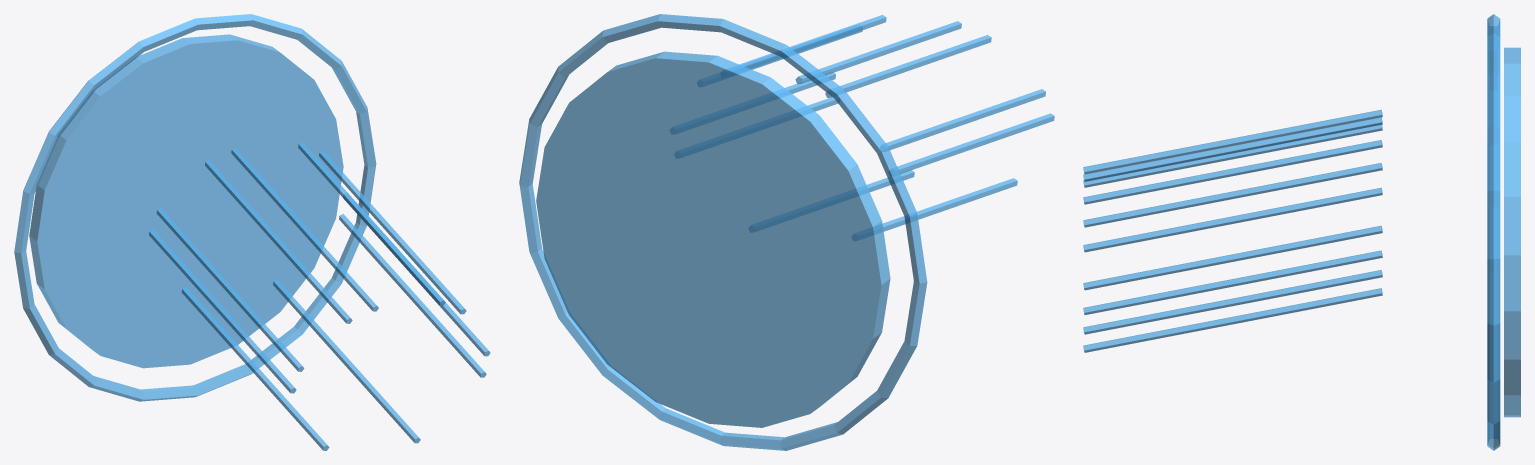
File: 01_rain_column_proxy.glb
The picture shows the model from 3 angles, left to right: view 1: azimuth 30°, elevation 25°; view 2: azimuth 150°, elevation 25°; view 3: azimuth 270°, elevation 25°; orthographic projection. The views are drawn at different scales.
Parts seen in each view (by area): view 1: base_disc, base_ring, rain_drop_7, rain_drop_5, rain_drop_1, rain_drop_2, rain_drop_4, rain_drop_6, rain_drop_8, rain_drop_3, rain_drop_9, rain_drop_0; view 2: base_disc, base_ring, rain_drop_9, rain_drop_8, rain_drop_3, rain_drop_2, rain_drop_4, rain_drop_1, rain_drop_5, rain_drop_6, rain_drop_0, rain_drop_7; view 3: base_disc, base_ring, rain_drop_7, rain_drop_1, rain_drop_6, rain_drop_8, rain_drop_0, rain_drop_3, rain_drop_4, rain_drop_5, rain_drop_2, rain_drop_9.
Part boxes in pixels (left/top/right/bottom): base_disc: left=29, top=34, right=343, bottom=368; base_ring: left=14, top=14, right=376, bottom=401; rain_drop_7: left=319, top=150, right=466, bottom=314; rain_drop_5: left=273, top=279, right=420, bottom=443; rain_drop_1: left=298, top=142, right=445, bottom=305; rain_drop_2: left=205, top=160, right=352, bottom=323; rain_drop_4: left=181, top=287, right=329, bottom=450; rain_drop_6: left=339, top=214, right=486, bottom=377; rain_drop_8: left=231, top=147, right=378, bottom=311; rain_drop_3: left=149, top=229, right=296, bottom=393; rain_drop_9: left=156, top=208, right=304, bottom=371; rain_drop_0: left=343, top=193, right=490, bottom=356; base_disc: left=536, top=51, right=890, bottom=427; base_ring: left=519, top=14, right=927, bottom=450; rain_drop_9: left=880, top=89, right=1045, bottom=151; rain_drop_8: left=795, top=21, right=961, bottom=84; rain_drop_3: left=889, top=113, right=1054, bottom=175; rain_drop_2: left=825, top=35, right=991, bottom=97; rain_drop_4: left=852, top=178, right=1017, bottom=240; rain_drop_1: left=720, top=15, right=886, bottom=77; rain_drop_5: left=749, top=170, right=914, bottom=231; rain_drop_6: left=674, top=96, right=839, bottom=158; rain_drop_0: left=670, top=72, right=835, bottom=133; rain_drop_7: left=697, top=25, right=862, bottom=86; base_disc: left=1504, top=47, right=1520, bottom=417; base_ring: left=1487, top=14, right=1500, bottom=450; rain_drop_7: left=1083, top=187, right=1382, bottom=252; rain_drop_1: left=1083, top=163, right=1382, bottom=227; rain_drop_6: left=1083, top=270, right=1382, bottom=334; rain_drop_8: left=1083, top=117, right=1382, bottom=181; rain_drop_0: left=1083, top=250, right=1382, bottom=314; rain_drop_3: left=1083, top=140, right=1382, bottom=204; rain_drop_4: left=1083, top=225, right=1382, bottom=290; rain_drop_5: left=1083, top=288, right=1382, bottom=352; rain_drop_2: left=1083, top=109, right=1382, bottom=173; rain_drop_9: left=1083, top=124, right=1382, bottom=187.
Bounding box in the file's own units: 1.3 × 1.3 × 1.29.
